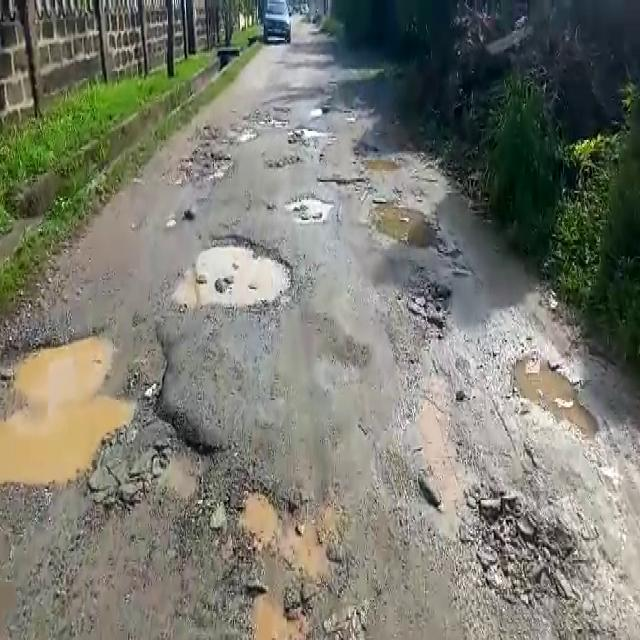Pothole: (1, 322, 227, 502), (204, 474, 356, 636), (461, 489, 584, 615), (168, 230, 303, 312), (501, 348, 607, 438), (368, 194, 443, 251), (393, 277, 448, 336), (173, 147, 237, 186), (286, 196, 331, 223), (359, 153, 402, 174), (314, 172, 366, 185)
